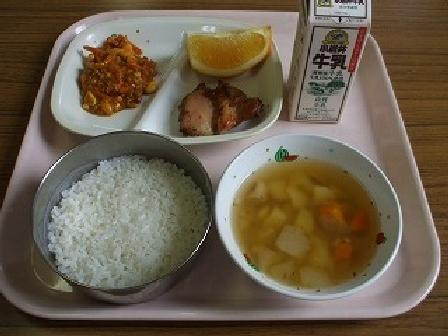Citrus: (177, 19, 281, 80)
Curry: (63, 33, 159, 125)
Meat: (169, 73, 275, 145)
Milk: (276, 2, 387, 131)
Rice: (26, 126, 215, 299)
Soups: (221, 140, 398, 293)
